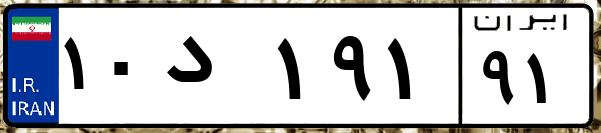0: (110, 28, 158, 98)
1: (270, 28, 330, 110), (385, 28, 445, 110), (57, 26, 110, 100), (525, 38, 570, 115)
9: (330, 28, 385, 110), (475, 38, 525, 113)
د: (158, 20, 270, 120)
